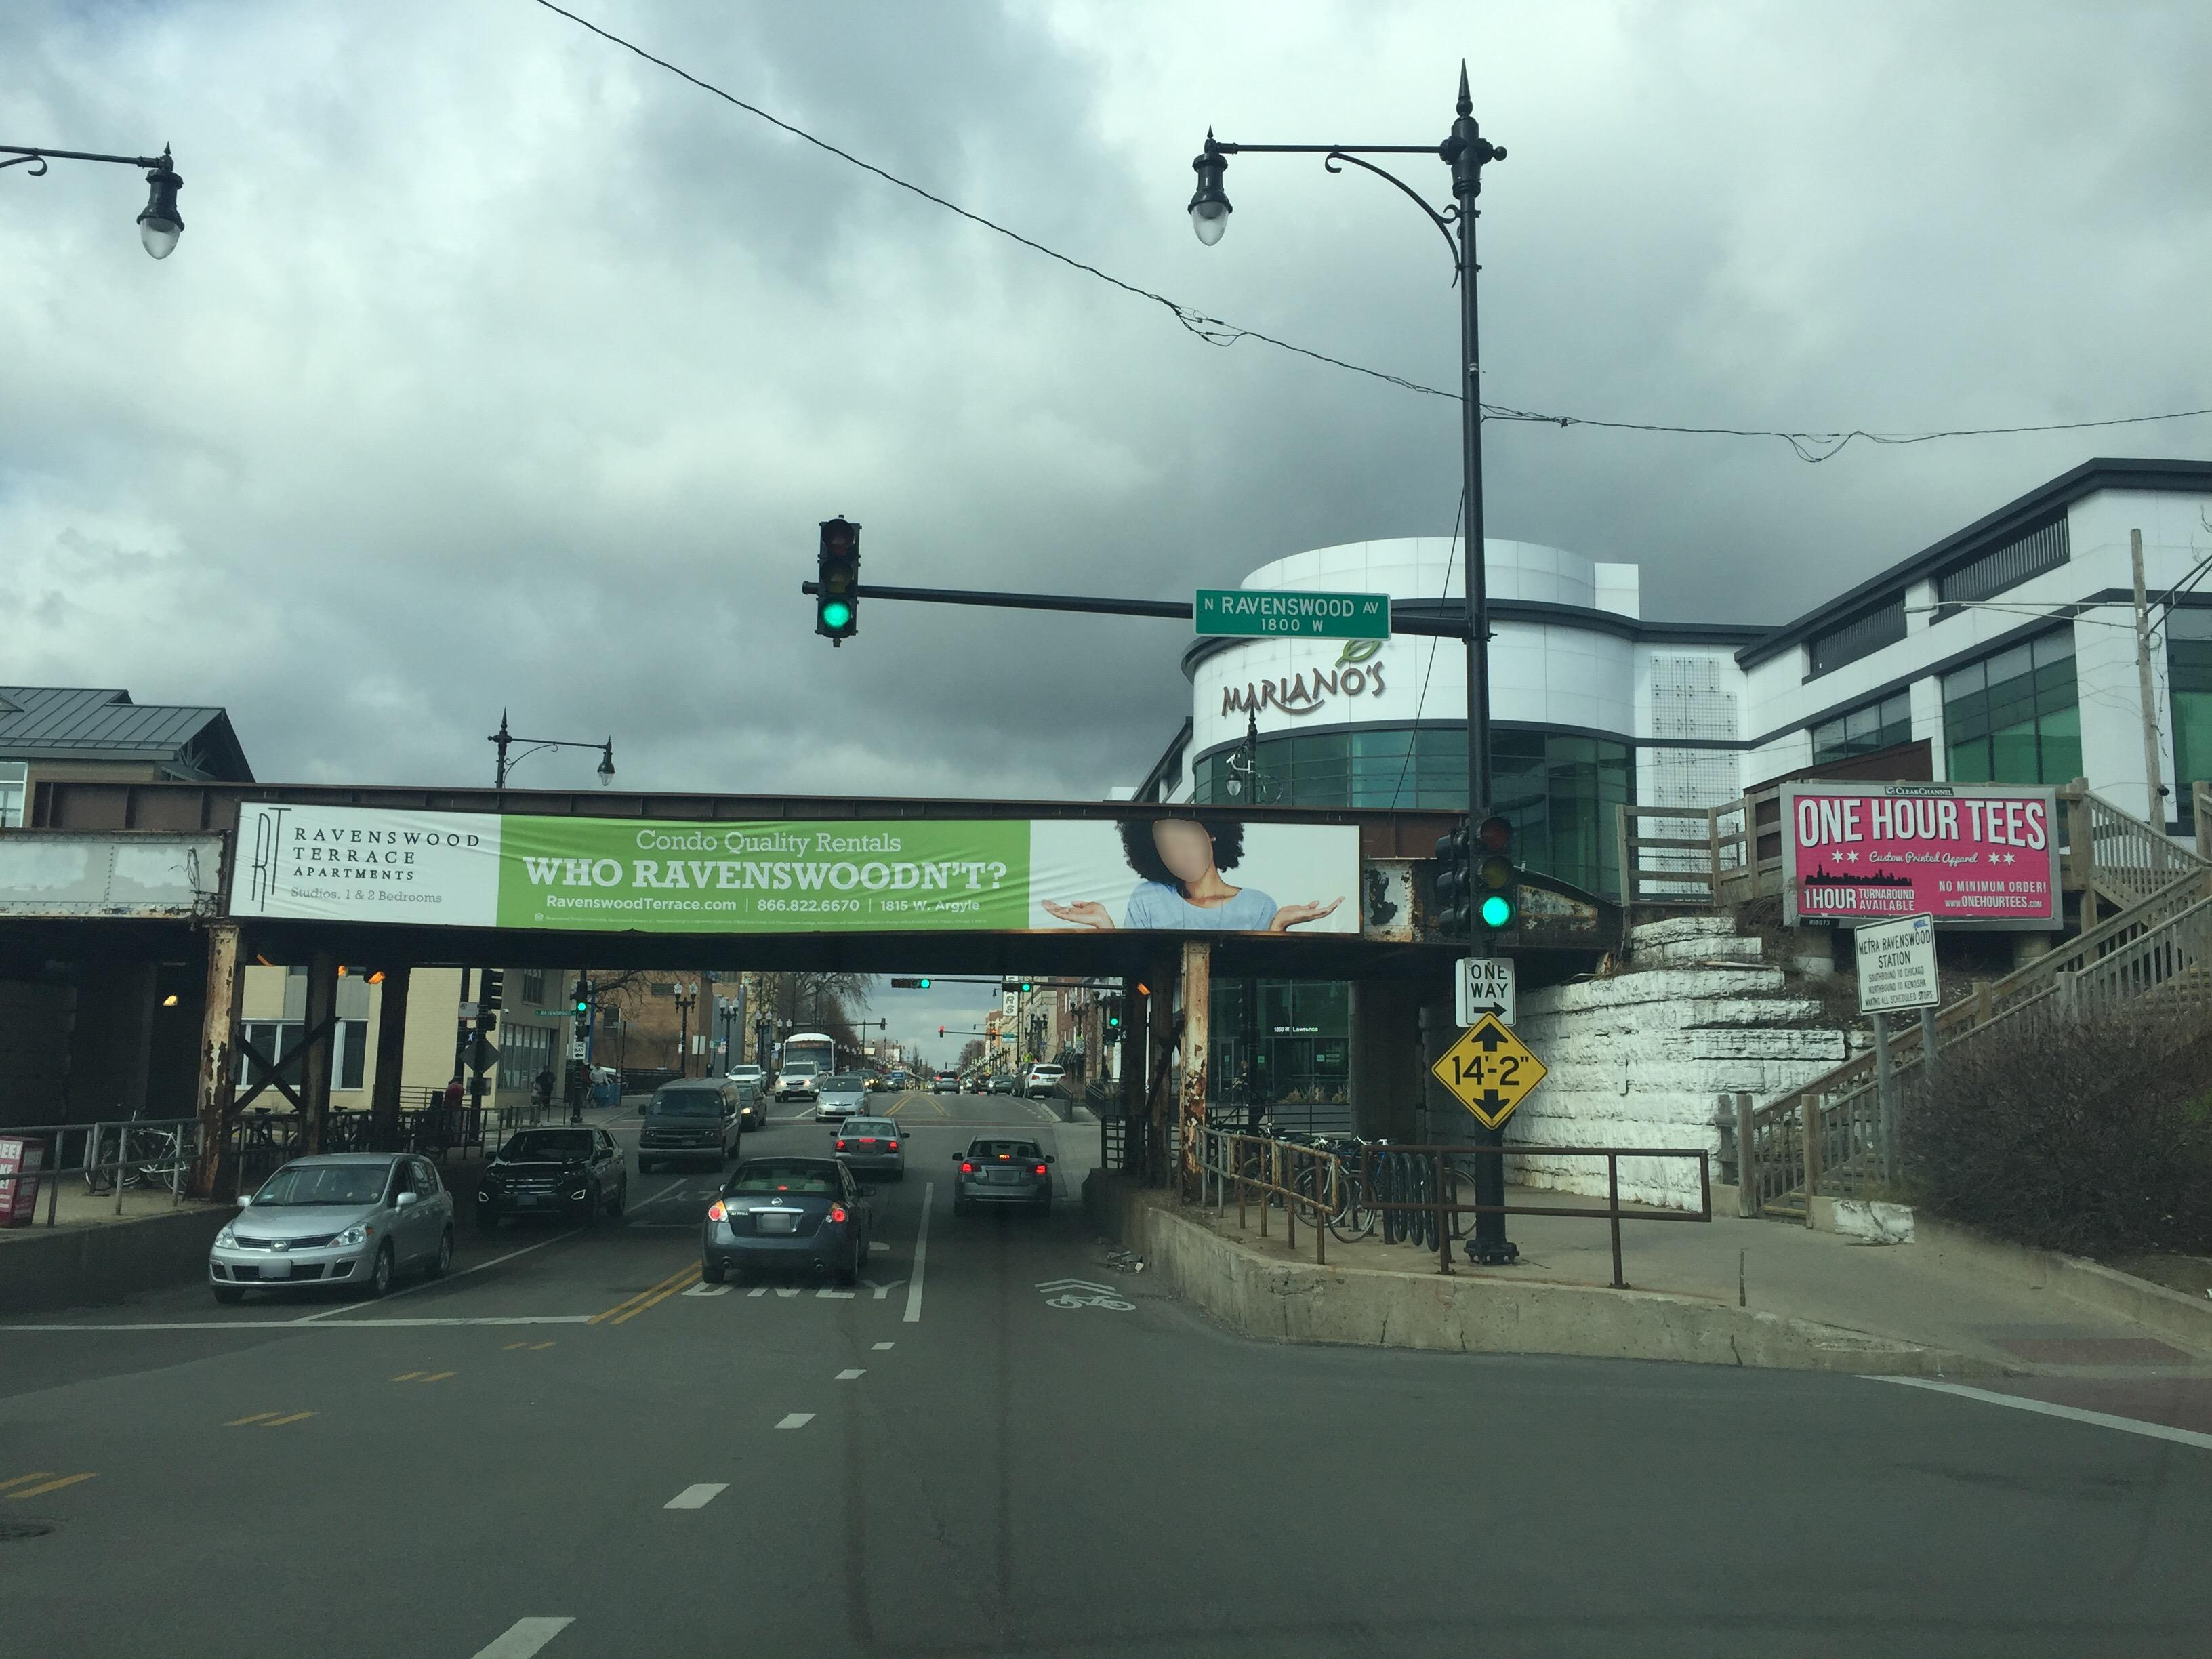vinyl banner: (218, 781, 1379, 967)
